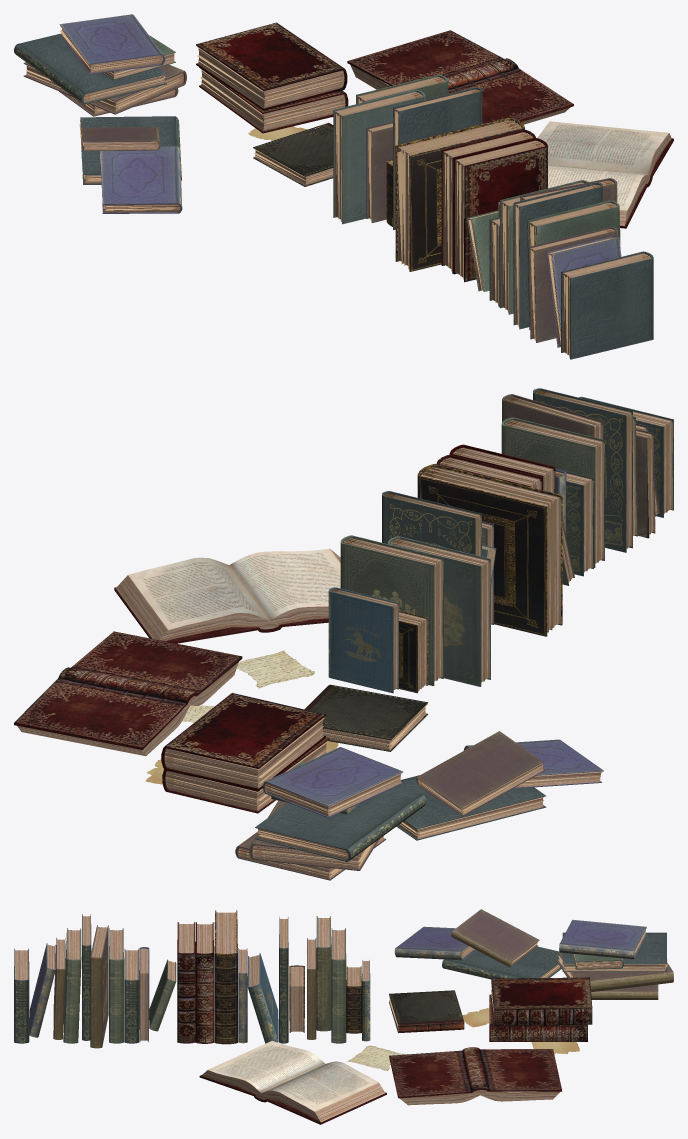
The model's file is book+changes.fbx.
The picture shows the model from 3 angles, top to bottom: view 1: azimuth 30°, elevation 25°; view 2: azimuth 150°, elevation 25°; view 3: azimuth 270°, elevation 25°; orthographic projection. The views are drawn at different scales.
Parts seen in each view (by area): view 1: openbook2, book7(1).001, book1, openbook1, book10, book1.001, book9.004, book5, book9.003, book7.002, book7, book7.001 (+17 smaller); view 2: openbook2, openbook1, book10, book1, book4, book5, book9.001, book7.002, book6.003, book9.003, book3, book7.001 (+15 smaller); view 3: openbook2, openbook1, book1, book10, book3, book6.003, book9.003, book7.003, book1.001, book2.001, book6(1).001, book9.004 (+26 smaller).
Part boxes in pixels (left/top/right/bottom): openbook2: left=347, top=30, right=573, bottom=124; book7(1).001: left=561, top=251, right=653, bottom=359; book1: left=196, top=22, right=347, bottom=110; openbook1: left=537, top=121, right=673, bottom=228; book10: left=395, top=117, right=524, bottom=271; book1.001: left=453, top=138, right=547, bottom=282; book9.004: left=100, top=146, right=182, bottom=213; book5: left=333, top=89, right=425, bottom=224; book9.003: left=59, top=14, right=165, bottom=74; book7.002: left=14, top=33, right=166, bottom=104; book7: left=393, top=87, right=482, bottom=229; book7.001: left=513, top=182, right=602, bottom=329; openbook2: left=14, top=631, right=242, bottom=756; openbook1: left=114, top=548, right=340, bottom=643; book10: left=417, top=464, right=562, bottom=636; book1: left=161, top=693, right=325, bottom=790; book4: left=340, top=535, right=443, bottom=685; book5: left=387, top=536, right=490, bottom=686; book9.001: left=328, top=587, right=398, bottom=693; book7.002: left=255, top=787, right=426, bottom=861; book6.003: left=416, top=731, right=545, bottom=816; book9.003: left=263, top=747, right=403, bottom=817; book3: left=304, top=684, right=428, bottom=751; book7.001: left=533, top=388, right=632, bottom=552; openbook2: left=389, top=1047, right=562, bottom=1105; openbook1: left=199, top=1040, right=386, bottom=1124; book1: left=491, top=977, right=592, bottom=1025; book10: left=214, top=910, right=237, bottom=1044; book3: left=389, top=990, right=464, bottom=1033; book6.003: left=451, top=909, right=539, bottom=967; book9.003: left=559, top=919, right=646, bottom=959; book7.003: left=442, top=946, right=561, bottom=979; book1.001: left=177, top=922, right=195, bottom=1043; book2.001: left=195, top=922, right=213, bottom=1043; book6(1).001: left=90, top=925, right=108, bottom=1048; book9.004: left=394, top=926, right=475, bottom=960.
Size of what is drawn, in the model's own units: 979 by 229 by 1438.
